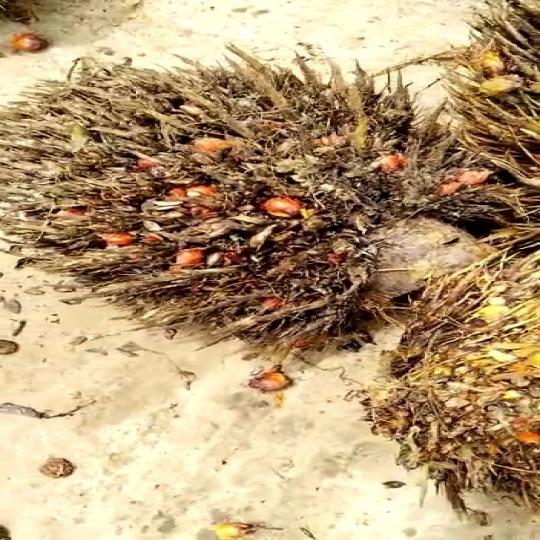terlalu masak: (0, 51, 456, 359)
